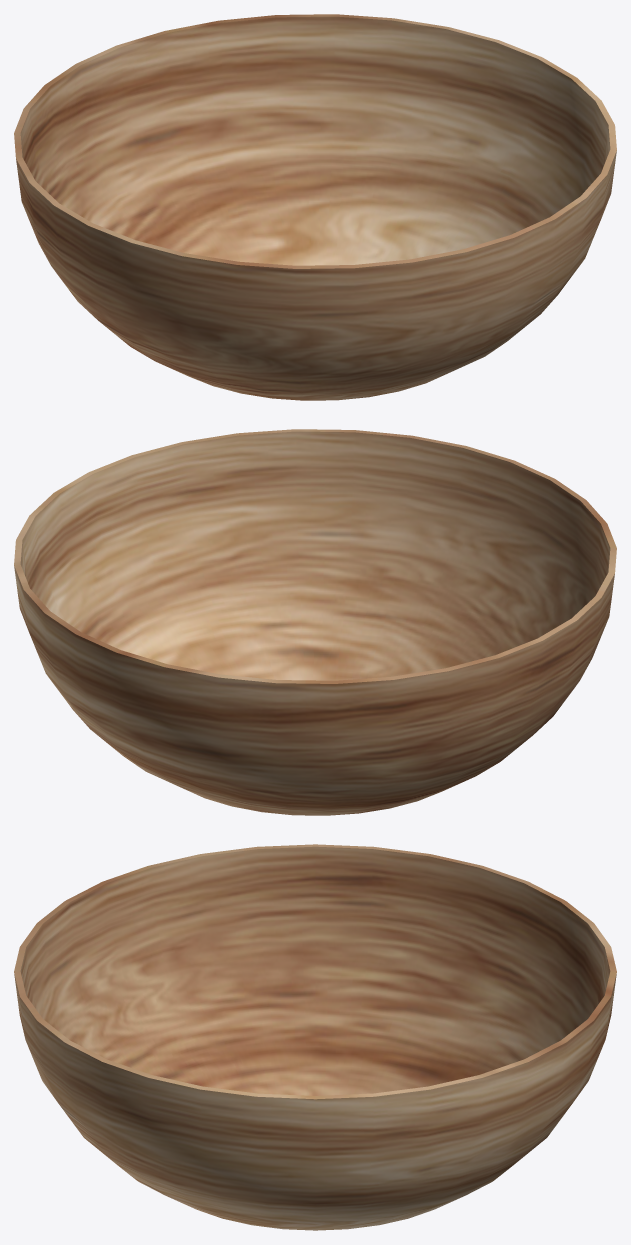
File: Fruit platter.FBX
The picture shows the model from 3 angles, top to bottom: view 1: azimuth 30°, elevation 25°; view 2: azimuth 150°, elevation 25°; view 3: azimuth 270°, elevation 25°; orthographic projection.
Visible parts, largest first — view 1: Fruit platter; view 2: Fruit platter; view 3: Fruit platter.
Part boxes in pixels (left/top/right/bottom): Fruit platter: left=14, top=14, right=616, bottom=400; Fruit platter: left=14, top=429, right=616, bottom=815; Fruit platter: left=14, top=844, right=616, bottom=1230.
Size of the model in its own units: 28.63 by 10.98 by 28.63.
Materials: 1 (1 with a texture image).
